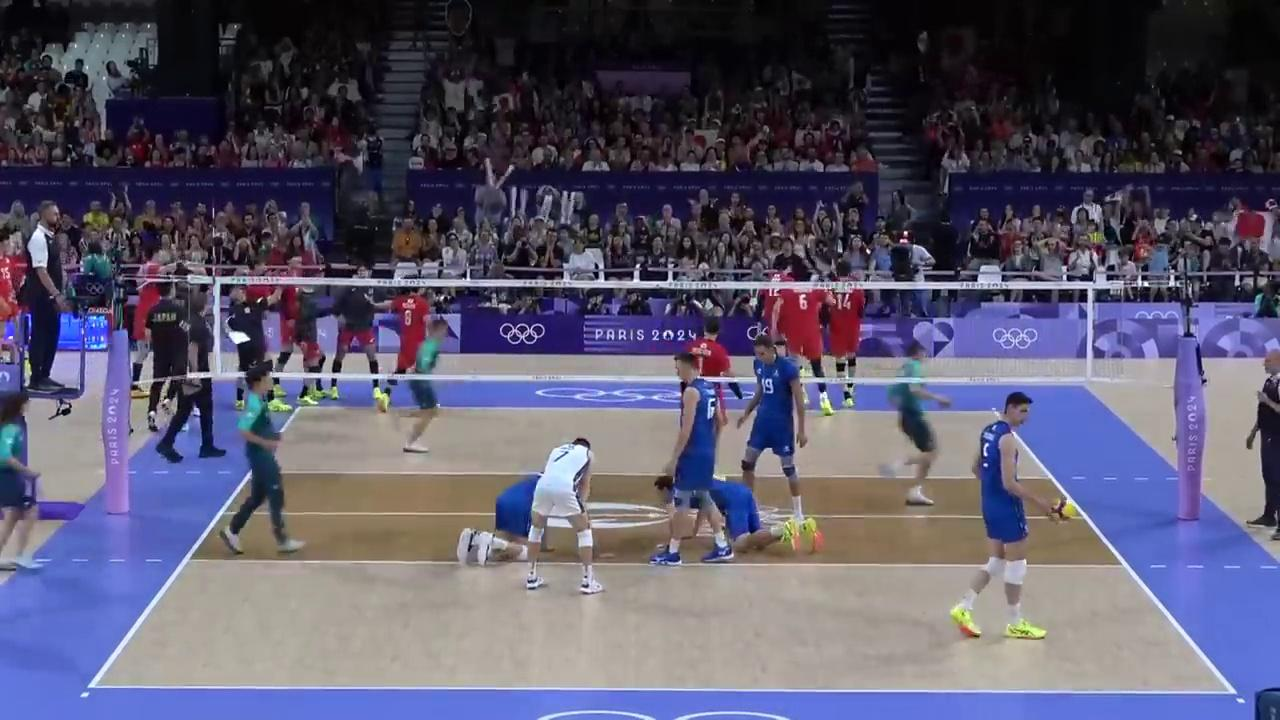ball: (1049, 498, 1074, 524)
